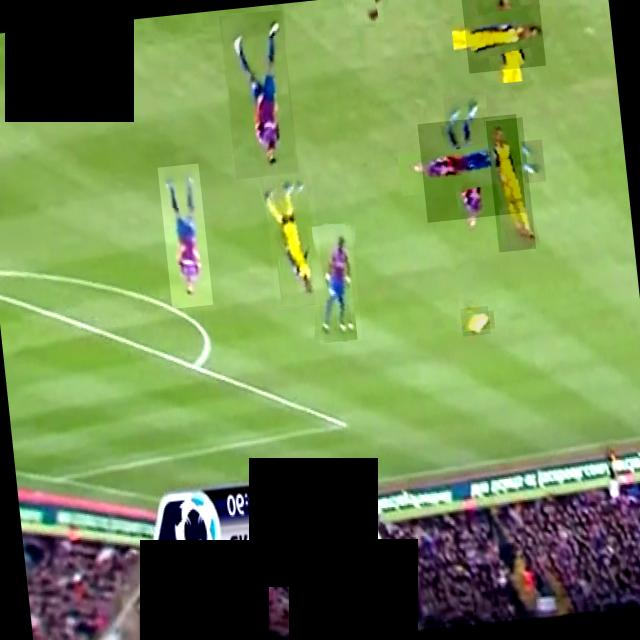ball: (458, 304, 489, 335)
referee: (345, 0, 383, 24)
soccer-player: (218, 8, 298, 178), (416, 112, 525, 222), (262, 168, 324, 308), (156, 162, 212, 308), (484, 116, 535, 251), (306, 220, 361, 344), (459, 0, 544, 72)
